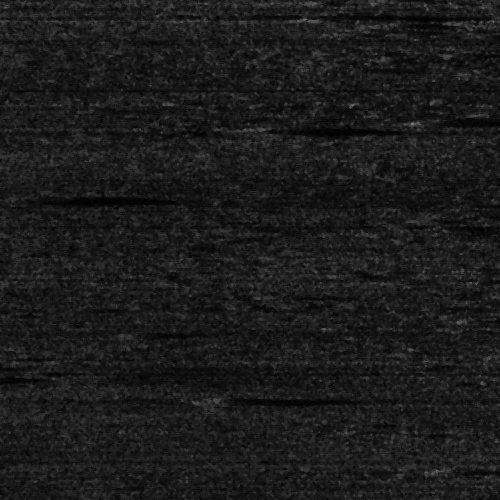object: (427, 14, 500, 27), (225, 122, 298, 131), (0, 191, 70, 200), (470, 6, 500, 21), (171, 395, 234, 402), (420, 467, 461, 472), (311, 15, 342, 18), (117, 499, 190, 500)
shadow: (28, 191, 172, 200), (262, 122, 374, 131), (203, 395, 322, 402), (474, 14, 500, 27), (0, 375, 60, 380), (440, 467, 500, 472), (326, 15, 351, 18), (154, 499, 227, 500)
